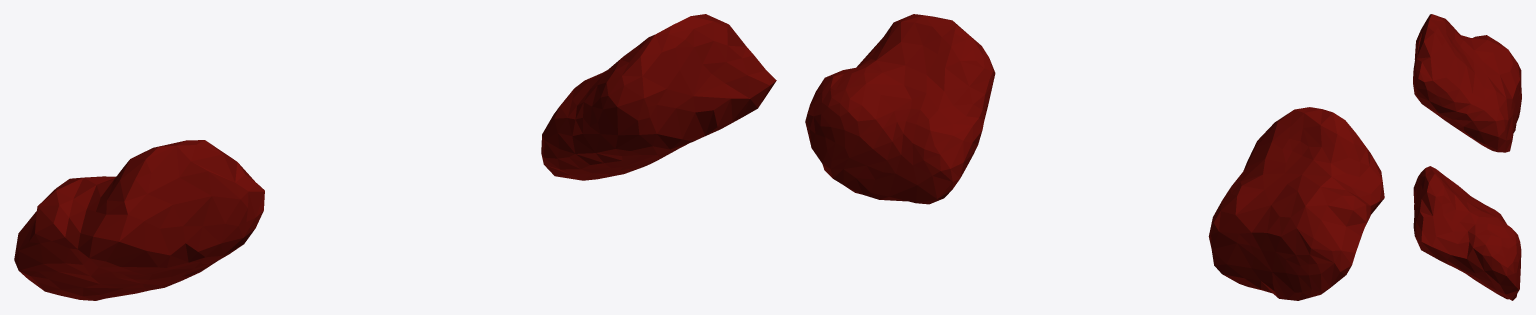
The model's file is 114-13M-area 13 of cortex, medial part-('0.4980', '0.0353', '0.0000').obj.
3 renders of one model, left to right at view 1: azimuth 30°, elevation 25°; view 2: azimuth 150°, elevation 25°; view 3: azimuth 270°, elevation 25°, orthographic. The views are drawn at different scales.
Bounding box in the file's own units: 169 × 44.59 × 36.34.
